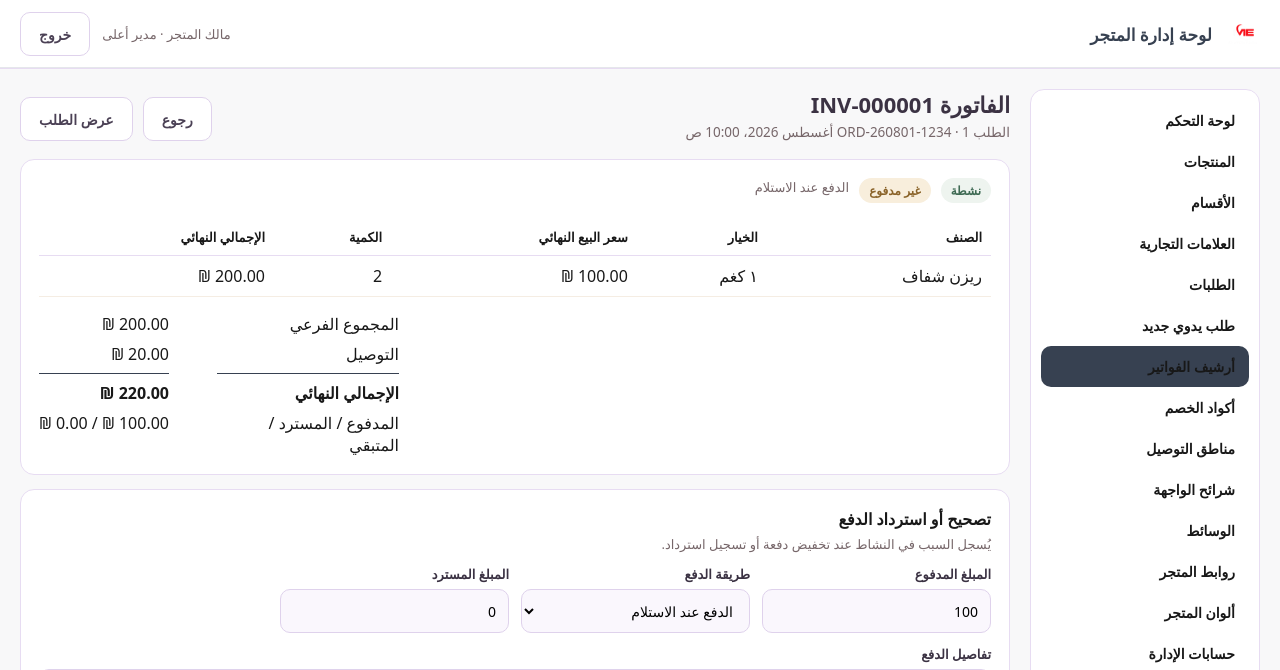
invoice archive workflow › requires a manager reason for corrections and refunds
Replace the text in the field labelled "المبلغ المسترد" with "20": point(394, 611) [280,589,509,633]
(page scrolled)
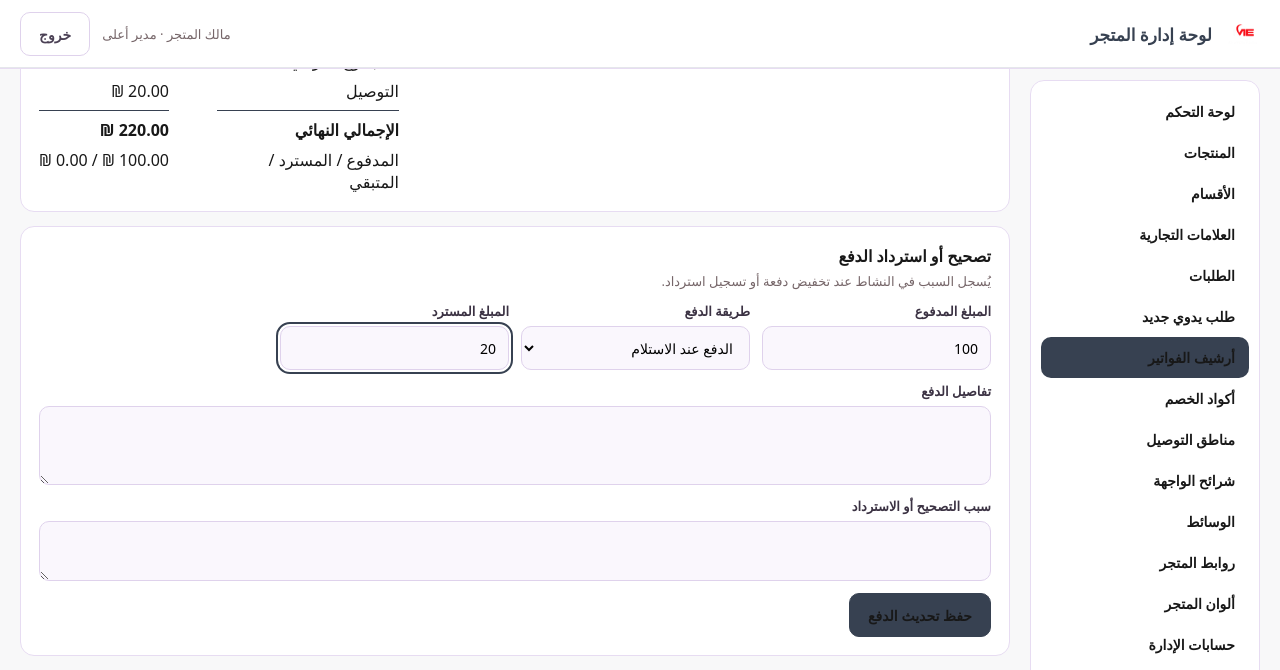
Click the button "حفظ تحديث الدفع": point(920, 615) [849,593,991,637]
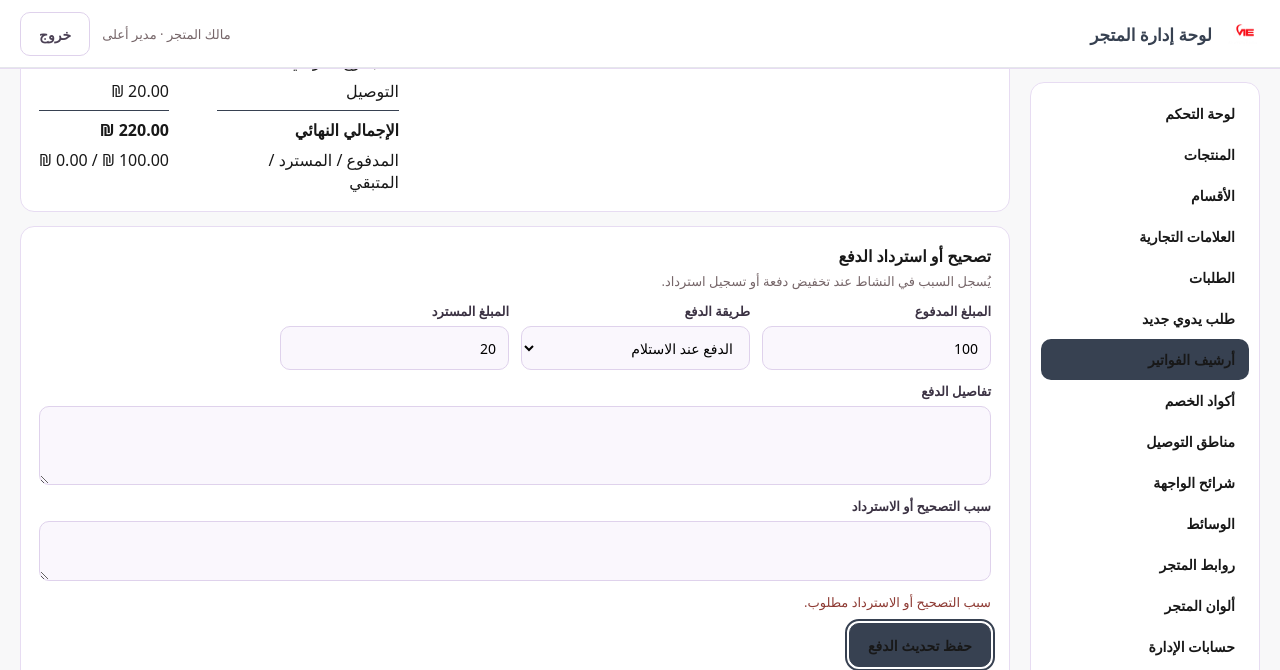
Now the message shows "سبب التصحيح أو الاسترداد مطلوب", box [804,593,991,611]
